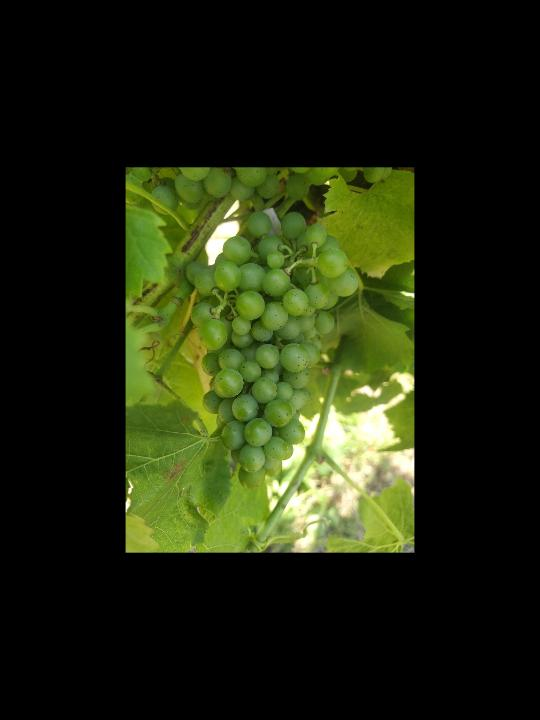grape: (185, 209, 361, 489)
